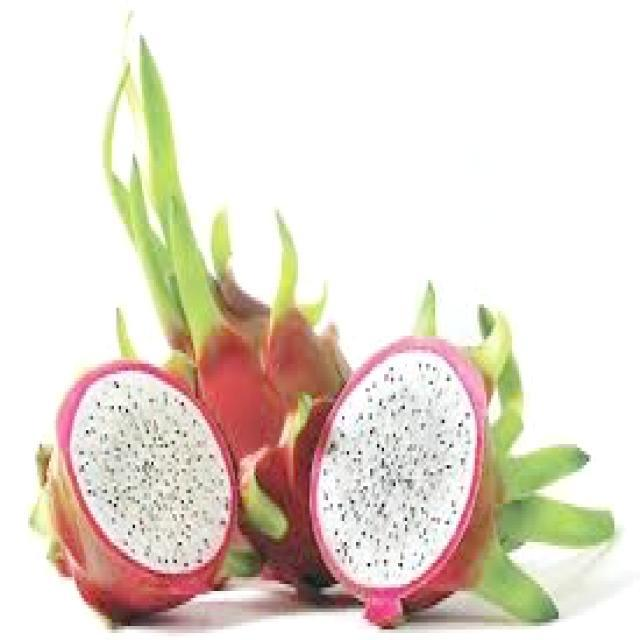trang: (96, 9, 360, 588), (308, 308, 614, 630), (29, 356, 235, 626)
